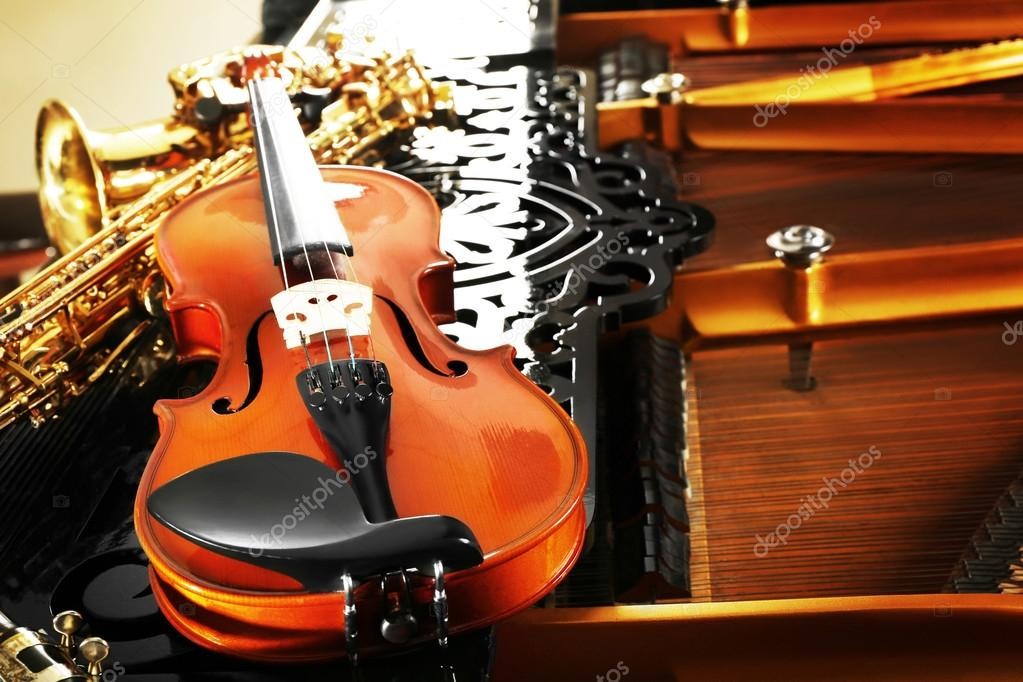Piano: (1, 1, 1004, 664)
Saxophone: (1, 11, 472, 411)
Violin: (117, 25, 637, 656)
